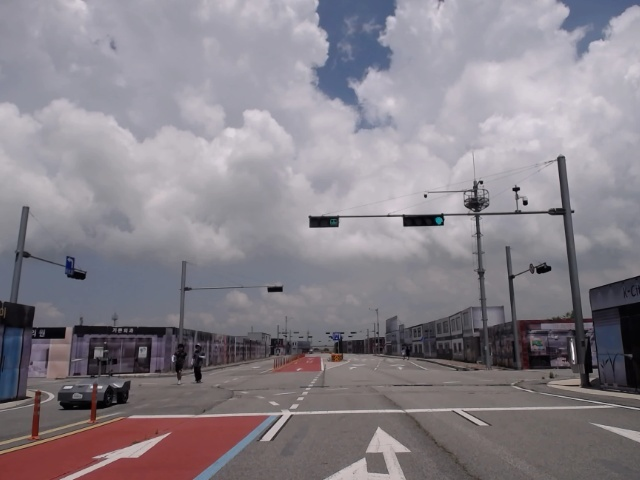straight_green_4: (403, 217, 445, 226)
